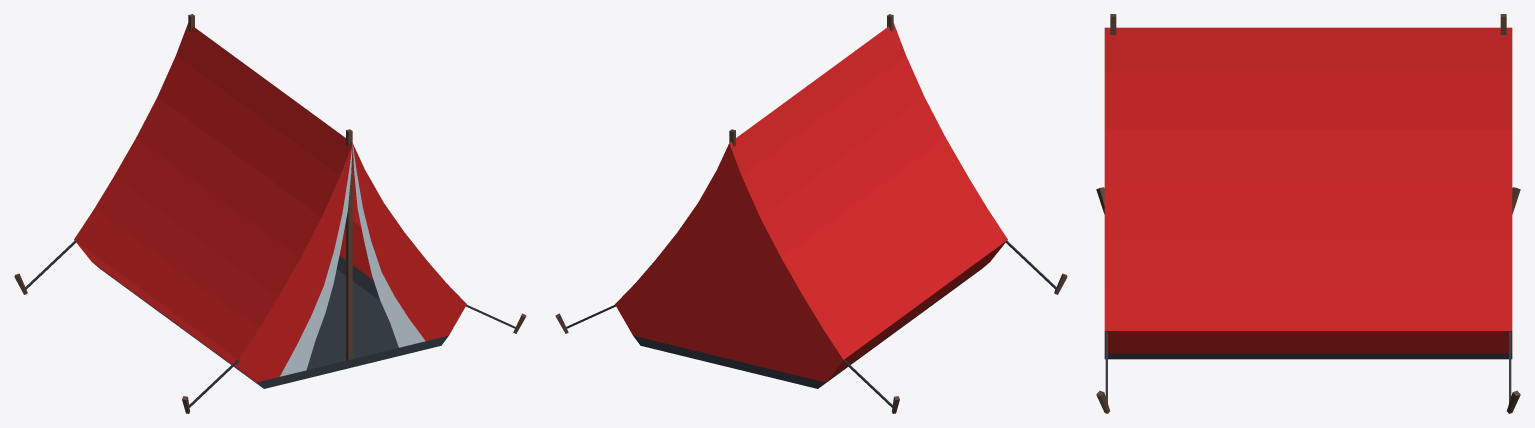
File: Tent_Red.fbx
3 views of the same model, side by side, from view 1: azimuth 30°, elevation 25°; view 2: azimuth 150°, elevation 25°; view 3: azimuth 270°, elevation 25° (orthographic). The views are drawn at different scales.
Parts seen in each view (by area): view 1: Tent_Red; view 2: Tent_Red; view 3: Tent_Red.
Boxes of the visible parts, x1,y1,x2,y2 form: Tent_Red: (14, 14, 526, 413); Tent_Red: (555, 14, 1067, 413); Tent_Red: (1096, 14, 1520, 413).
Bounding box in the file's own units: 389 × 260 × 335.
